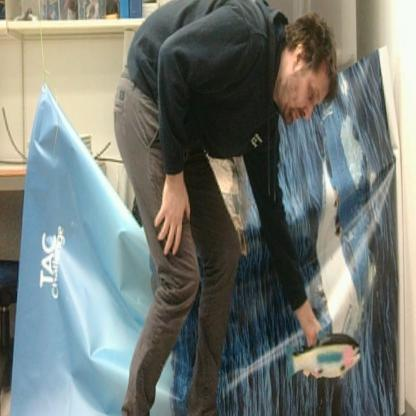rubberfish: (282, 331, 362, 381)
